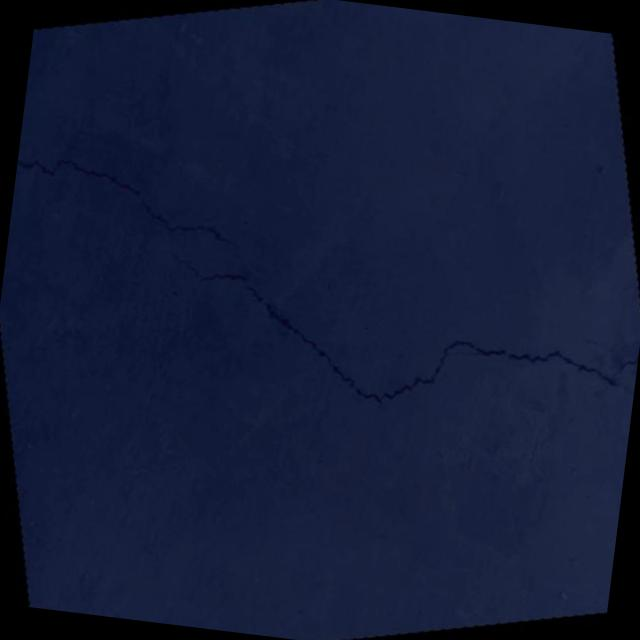crack: (145, 143, 640, 492), (3, 90, 256, 304)
